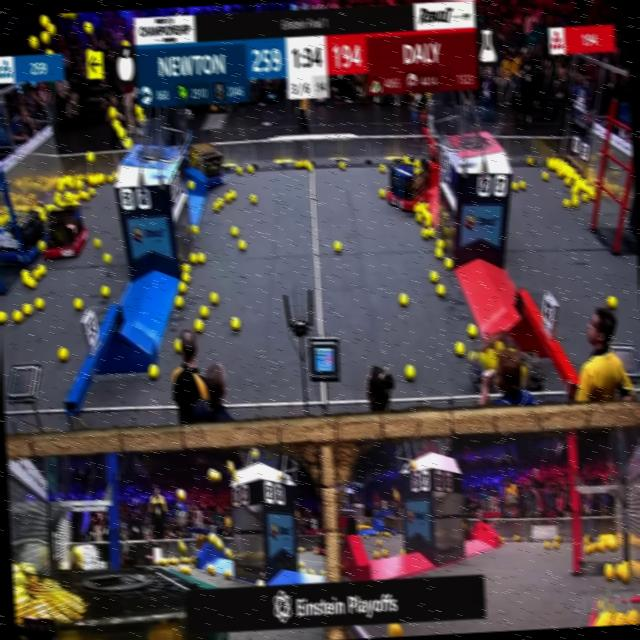ball_airborne: (112, 118, 120, 136), (84, 20, 94, 34), (40, 31, 50, 45), (175, 488, 185, 501), (40, 14, 49, 28), (214, 536, 223, 550), (177, 539, 186, 553), (122, 137, 132, 149), (207, 532, 217, 544), (46, 23, 55, 36), (108, 106, 117, 119), (30, 35, 38, 49), (227, 460, 234, 474), (117, 126, 125, 138), (208, 468, 215, 481), (135, 105, 142, 117), (86, 151, 93, 161), (251, 448, 258, 458), (224, 517, 230, 527), (138, 114, 145, 122), (232, 472, 238, 481), (215, 470, 220, 479)
ball_ground: (404, 365, 415, 381), (58, 346, 68, 360), (148, 364, 158, 378), (192, 319, 202, 333), (232, 316, 241, 331), (455, 342, 464, 356), (438, 282, 447, 296), (606, 296, 616, 308), (398, 294, 407, 307), (174, 295, 183, 308), (23, 304, 32, 316), (467, 326, 476, 338), (34, 298, 44, 308), (429, 271, 438, 282), (102, 286, 110, 298), (103, 252, 111, 264), (200, 305, 208, 317), (334, 240, 342, 252), (190, 224, 199, 234), (74, 298, 82, 309), (210, 292, 218, 303), (562, 198, 570, 208), (238, 240, 246, 250), (434, 247, 442, 257), (0, 310, 6, 322), (212, 204, 220, 212), (198, 253, 205, 262), (340, 160, 346, 170), (95, 238, 102, 246), (512, 181, 519, 189), (249, 194, 256, 202), (379, 165, 385, 173), (520, 180, 526, 188), (247, 166, 253, 174), (527, 158, 533, 166)
goal: (442, 106, 506, 152), (115, 121, 180, 161)
robot_blue: (0, 210, 50, 269), (185, 140, 227, 190)
robot_red: (40, 198, 90, 258), (386, 151, 433, 210)
